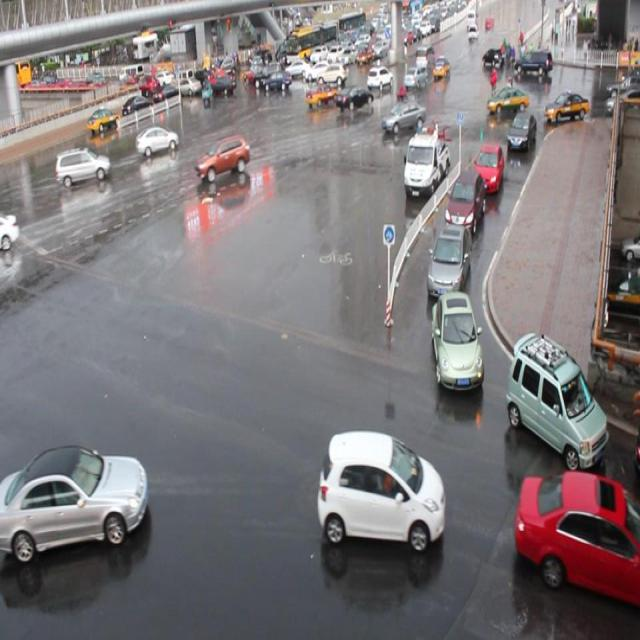bus: (402, 128, 448, 198)
car: (513, 467, 640, 606), (1, 444, 149, 555), (317, 428, 446, 550), (503, 327, 609, 472), (429, 288, 483, 390), (426, 222, 471, 298), (443, 170, 483, 231), (195, 136, 249, 177), (472, 143, 504, 191), (504, 109, 536, 153), (382, 100, 426, 132), (136, 124, 180, 153), (486, 85, 528, 113), (334, 84, 372, 110), (306, 82, 340, 105)
truck: (54, 148, 112, 186)
